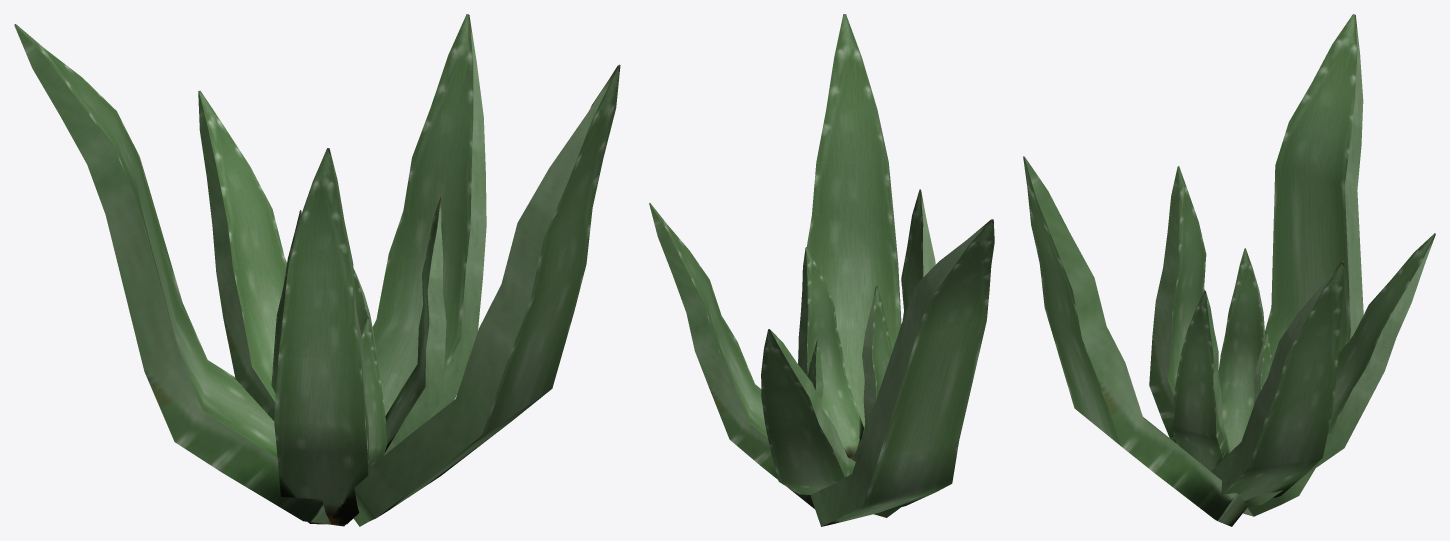
Rendered from aloe2.fbx.
The picture shows the model from 3 angles, left to right: view 1: azimuth 30°, elevation 25°; view 2: azimuth 150°, elevation 25°; view 3: azimuth 270°, elevation 25°; orthographic projection. The views are drawn at different scales.
Parts seen in each view (by area): view 1: pCube10; view 2: pCube10; view 3: pCube10.
Boxes of the visible parts, box(x1,y1,x2,y2) form: pCube10: box(14, 14, 620, 526); pCube10: box(649, 14, 994, 526); pCube10: box(1023, 14, 1435, 526).
Size of the model in its own units: 9.31 by 10.23 by 9.34.
Materials: 1 (1 with a texture image).
